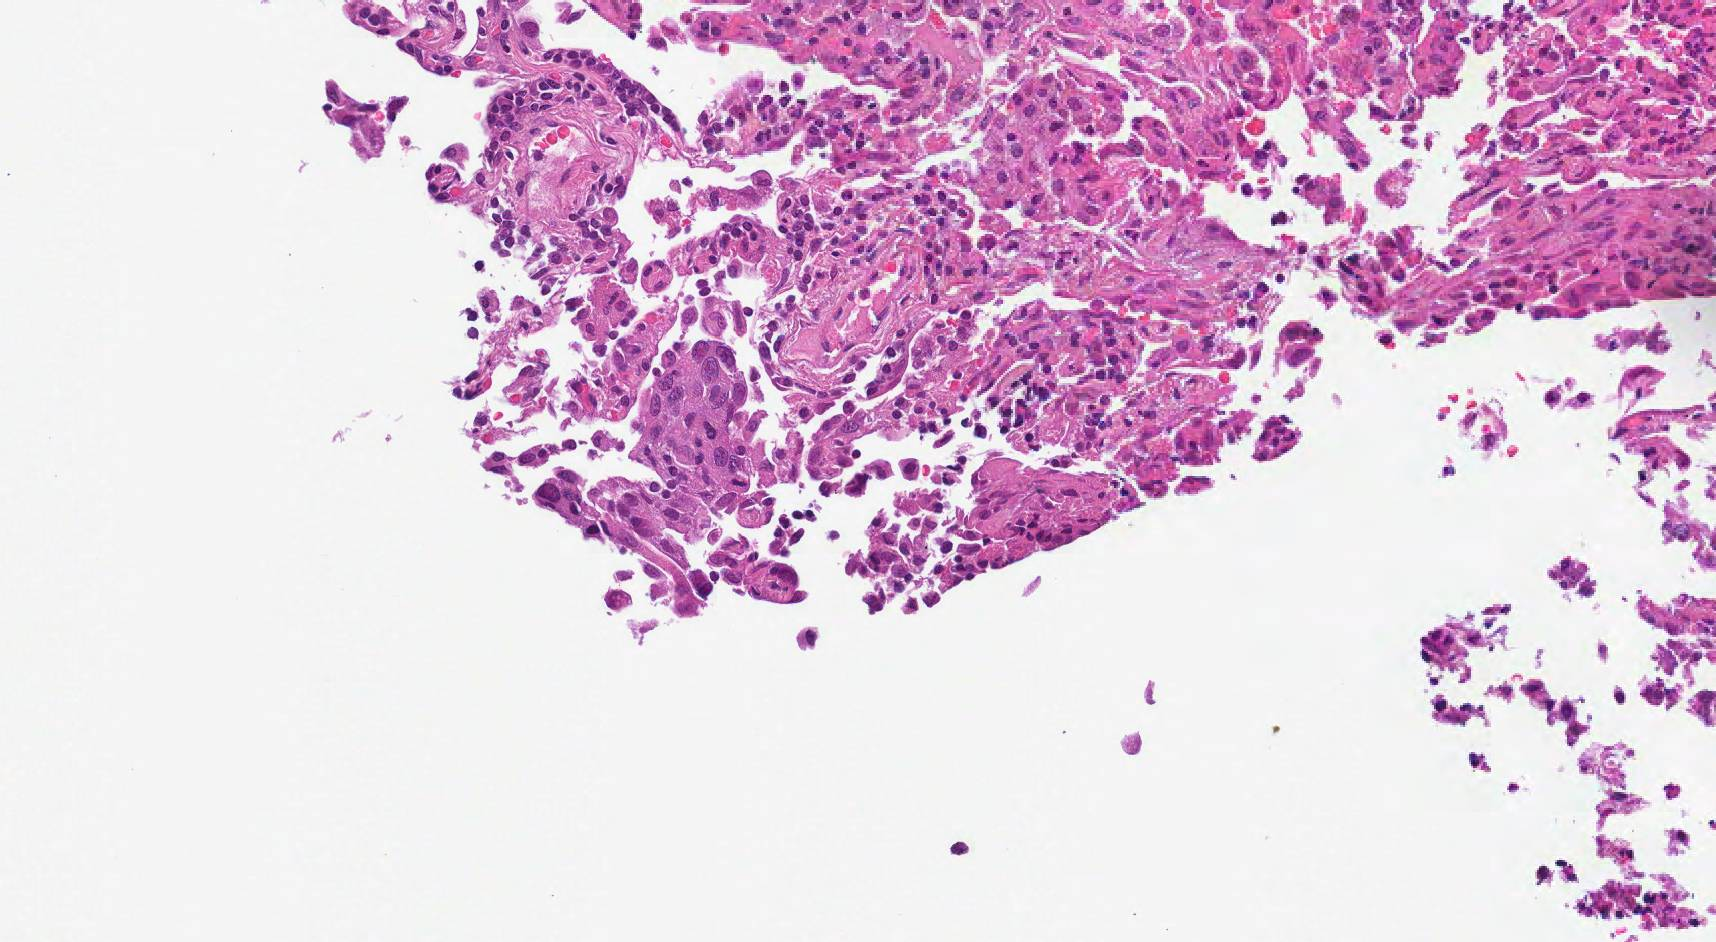stas: (530, 338, 810, 622)
